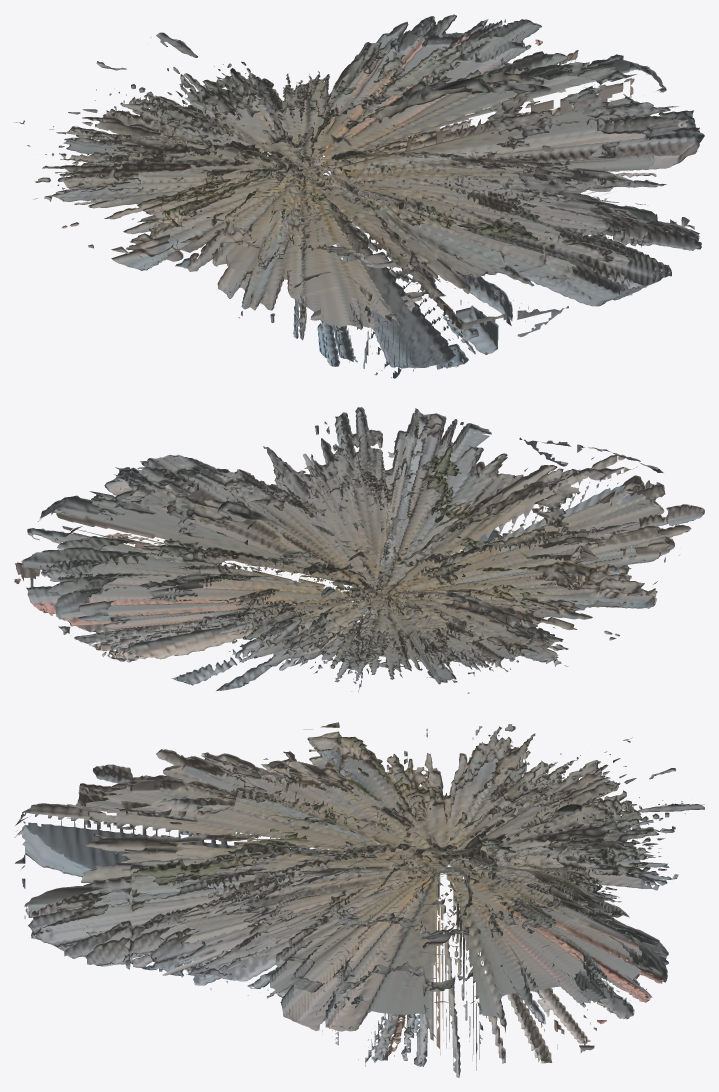
The model's file is paris-summit-collider.glb.
The picture shows the model from 3 angles, top to bottom: view 1: azimuth 30°, elevation 25°; view 2: azimuth 150°, elevation 25°; view 3: azimuth 270°, elevation 25°; orthographic projection. The views are drawn at different scales.
Parts seen in each view (by area): view 1: world; view 2: world; view 3: world.
Boxes of the visible parts, <box> form: world: <box>14,14,704,378</box>; world: <box>14,407,704,693</box>; world: <box>14,722,704,1077</box>.
Size of the model in its own units: 316 by 87.06 by 309.
